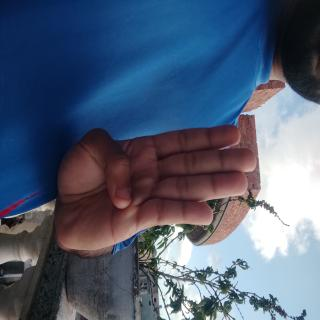KAAF: (85, 79, 198, 320)
